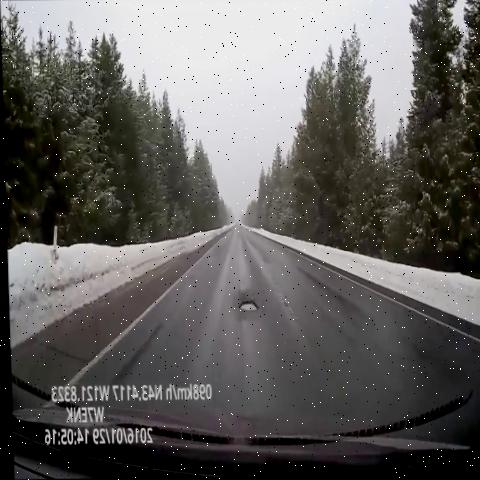pothole: (232, 286, 264, 322), (273, 283, 295, 324)
